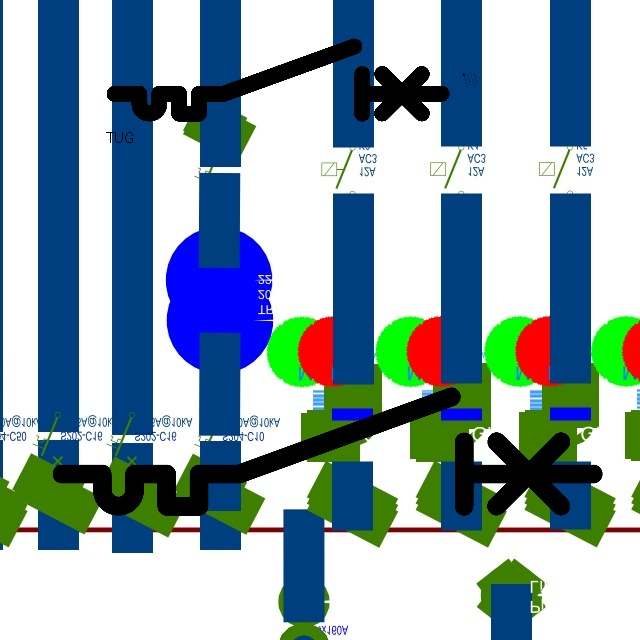interruptor_termomagnetico: (48, 383, 607, 520), (106, 38, 449, 122)
